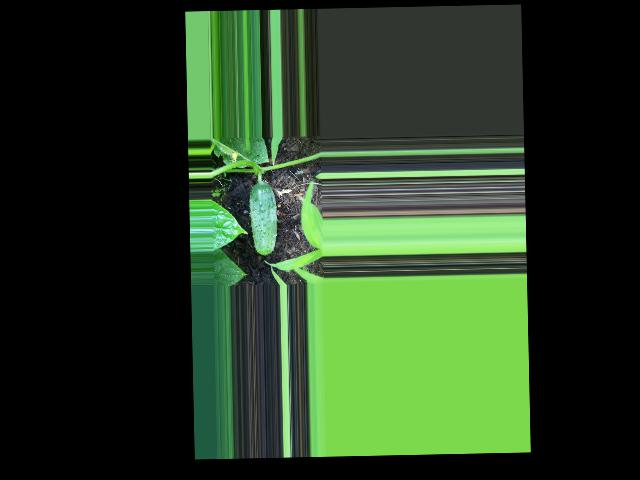cucumber: (249, 181, 278, 256)
